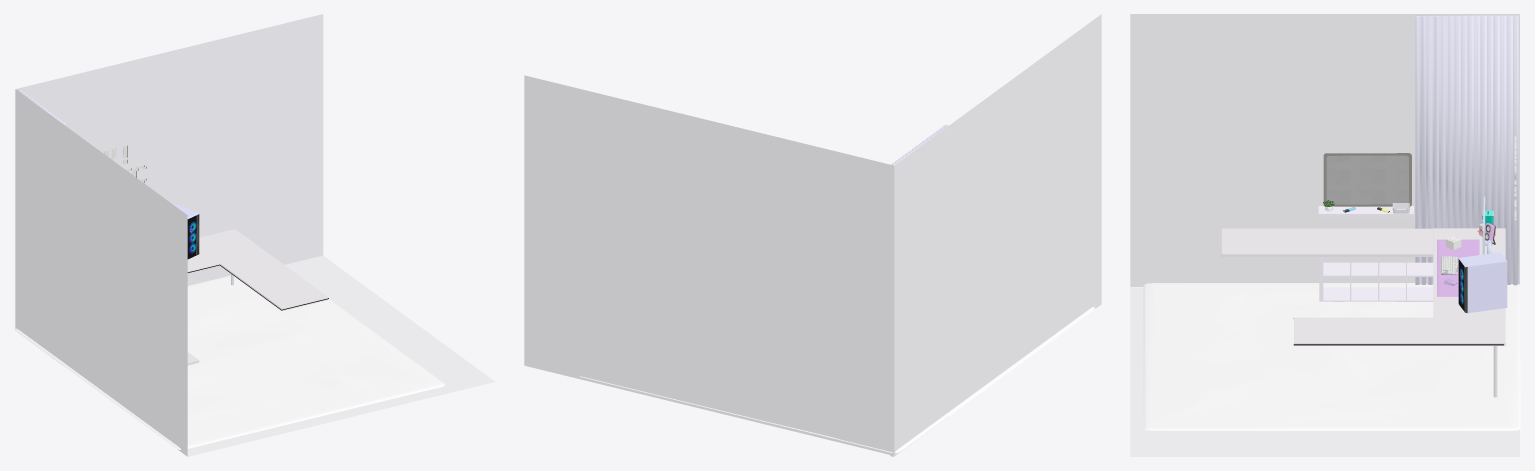
Rendered from isometric-girl-room-stage6-web.glb.
The picture shows the model from 3 angles, left to right: view 1: azimuth 30°, elevation 25°; view 2: azimuth 150°, elevation 25°; view 3: azimuth 270°, elevation 25°; orthographic projection. The views are drawn at different scales.
Visible parts, largest first — view 1: WEB_SIMPLE_BACK_WALL_FOR_BAKE, WEB_SIMPLE_LEFT_WALL_FOR_BAKE, Carpet, WEB_SIMPLE_FLOOR_FOR_BAKE, Desk_Table_Legs_Merged_Static, Object_6.010; view 2: WEB_SIMPLE_BACK_WALL_FOR_BAKE, WEB_SIMPLE_LEFT_WALL_FOR_BAKE, Carpet; view 3: WEB_SIMPLE_LEFT_WALL_FOR_BAKE, Carpet, Acoustic wood_block.001, Desk_Table_Legs_Merged_Static, WEB_SIMPLE_FLOOR_FOR_BAKE, Shelf_Body_Merged_Static, CommunityCanvasWhiteboard, Object_4.013, MousePAd, CommunityCanvasWhiteboarOutline, Object_6.010, Table Light strip.
Part boxes in pixels (x1=…): WEB_SIMPLE_BACK_WALL_FOR_BAKE: x1=15, y1=14, x2=323, y2=285; WEB_SIMPLE_LEFT_WALL_FOR_BAKE: x1=15, y1=89, x2=187, y2=456; Carpet: x1=14, y1=275, x2=444, y2=449; WEB_SIMPLE_FLOOR_FOR_BAKE: x1=187, y1=256, x2=495, y2=456; Desk_Table_Legs_Merged_Static: x1=187, y1=229, x2=328, y2=365; Object_6.010: x1=187, y1=214, x2=199, y2=259; WEB_SIMPLE_BACK_WALL_FOR_BAKE: x1=524, y1=75, x2=894, y2=455; WEB_SIMPLE_LEFT_WALL_FOR_BAKE: x1=894, y1=14, x2=1101, y2=455; Carpet: x1=579, y1=307, x2=1094, y2=453; WEB_SIMPLE_LEFT_WALL_FOR_BAKE: x1=1130, y1=14, x2=1519, y2=286; Carpet: x1=1143, y1=283, x2=1520, y2=430; Acoustic wood_block.001: x1=1415, y1=15, x2=1518, y2=285; Desk_Table_Legs_Merged_Static: x1=1221, y1=228, x2=1505, y2=397; WEB_SIMPLE_FLOOR_FOR_BAKE: x1=1130, y1=287, x2=1519, y2=456; Shelf_Body_Merged_Static: x1=1318, y1=206, x2=1433, y2=301; CommunityCanvasWhiteboard: x1=1326, y1=155, x2=1408, y2=204; Object_4.013: x1=1459, y1=252, x2=1507, y2=313; MousePAd: x1=1437, y1=239, x2=1479, y2=296; CommunityCanvasWhiteboarOutline: x1=1323, y1=153, x2=1411, y2=206; Object_6.010: x1=1458, y1=259, x2=1467, y2=312; Table Light strip: x1=1293, y1=318, x2=1503, y2=345.
Size of the model in its own units: 1.86 by 1.39 by 1.8.
Materials: 23 (21 with a texture image).
